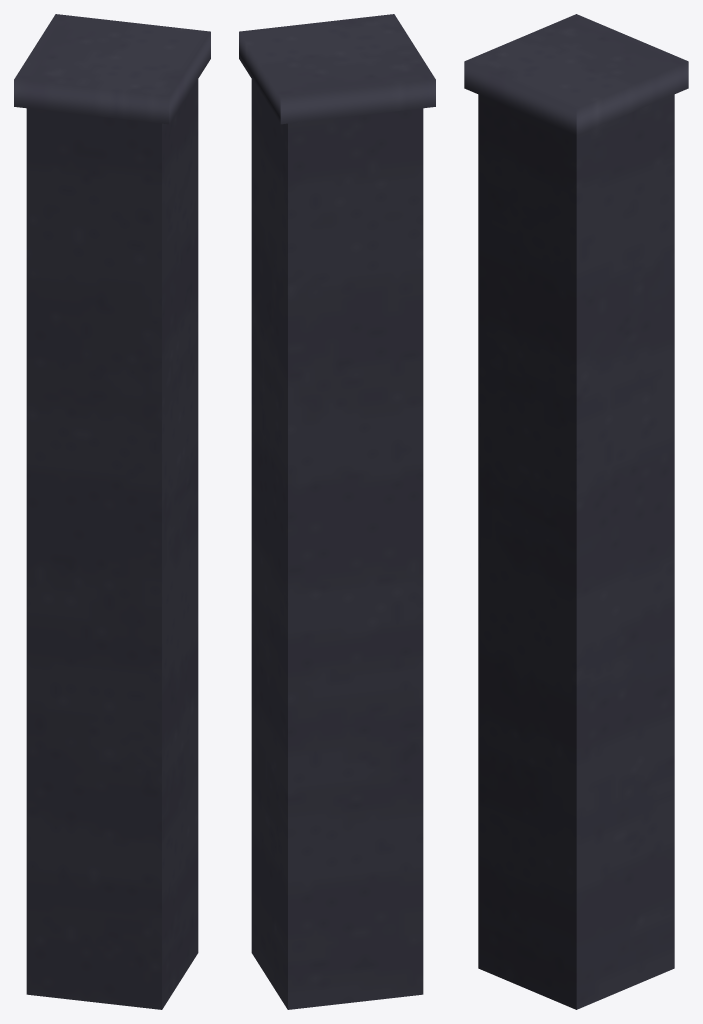
Rendered from tileCornerOnlyD-PCB.fbx.
3 renders of one model, left to right at view 1: azimuth 30°, elevation 25°; view 2: azimuth 150°, elevation 25°; view 3: azimuth 270°, elevation 25°, orthographic.
Parts seen in each view (by area): view 1: tileCornerOnlyD_PCB; view 2: tileCornerOnlyD_PCB; view 3: tileCornerOnlyD_PCB.
Boxes of the visible parts, x1=… form: tileCornerOnlyD_PCB: x1=14, y1=14, x2=210, y2=1009; tileCornerOnlyD_PCB: x1=239, y1=14, x2=435, y2=1009; tileCornerOnlyD_PCB: x1=464, y1=14, x2=688, y2=1009.
Bounding box in the file's own units: 92.53 × 412 × 92.53.
